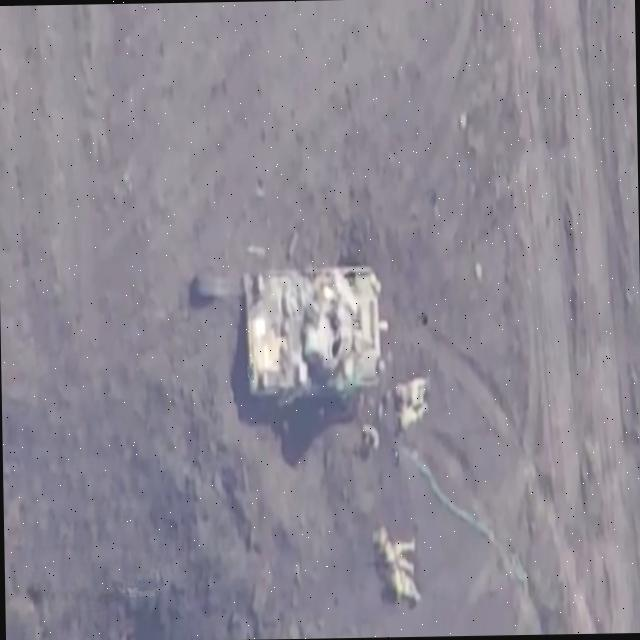AIFV: (243, 264, 387, 402)
